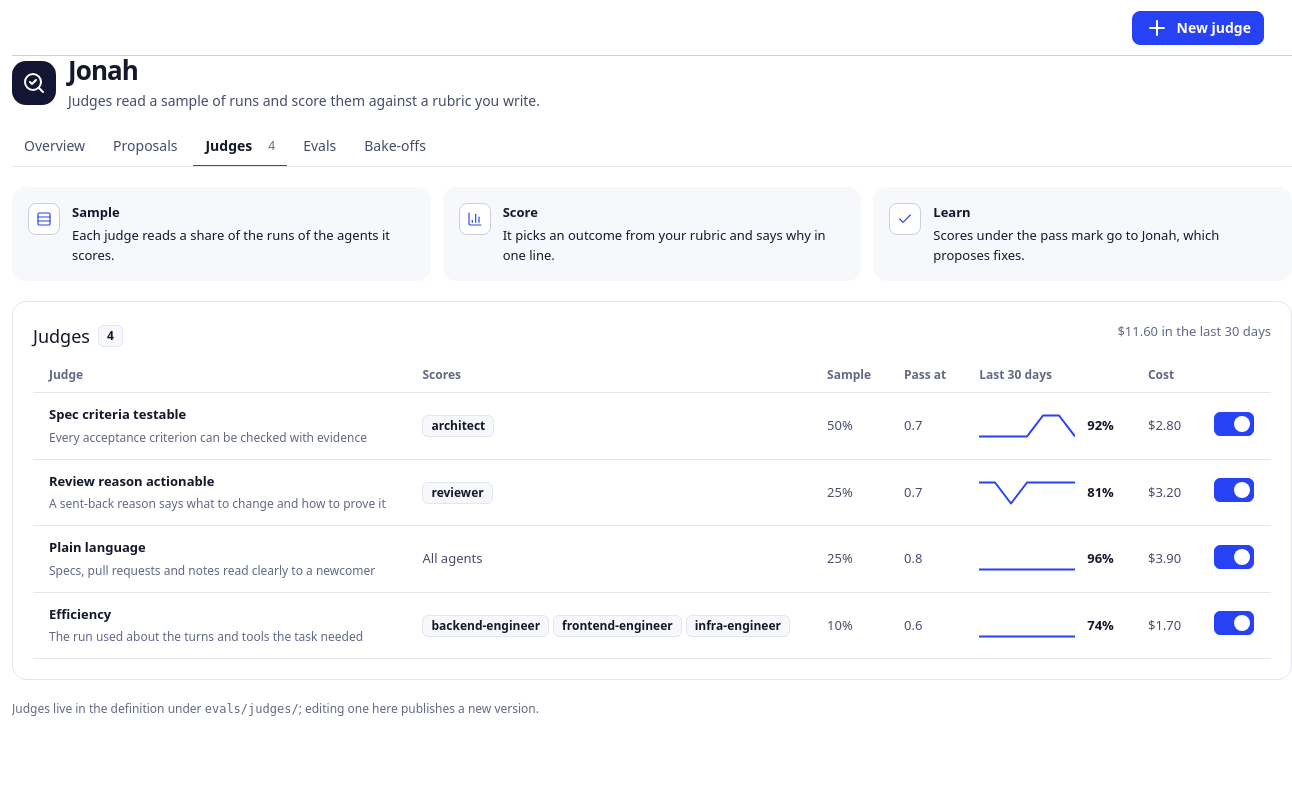
Test: the judges switch › does not show a refused flip as flipped, and says why
The image size is (1292, 800).
Click the switch named "Plain language on".
click(1234, 557)  # box [1214,545,1254,569]
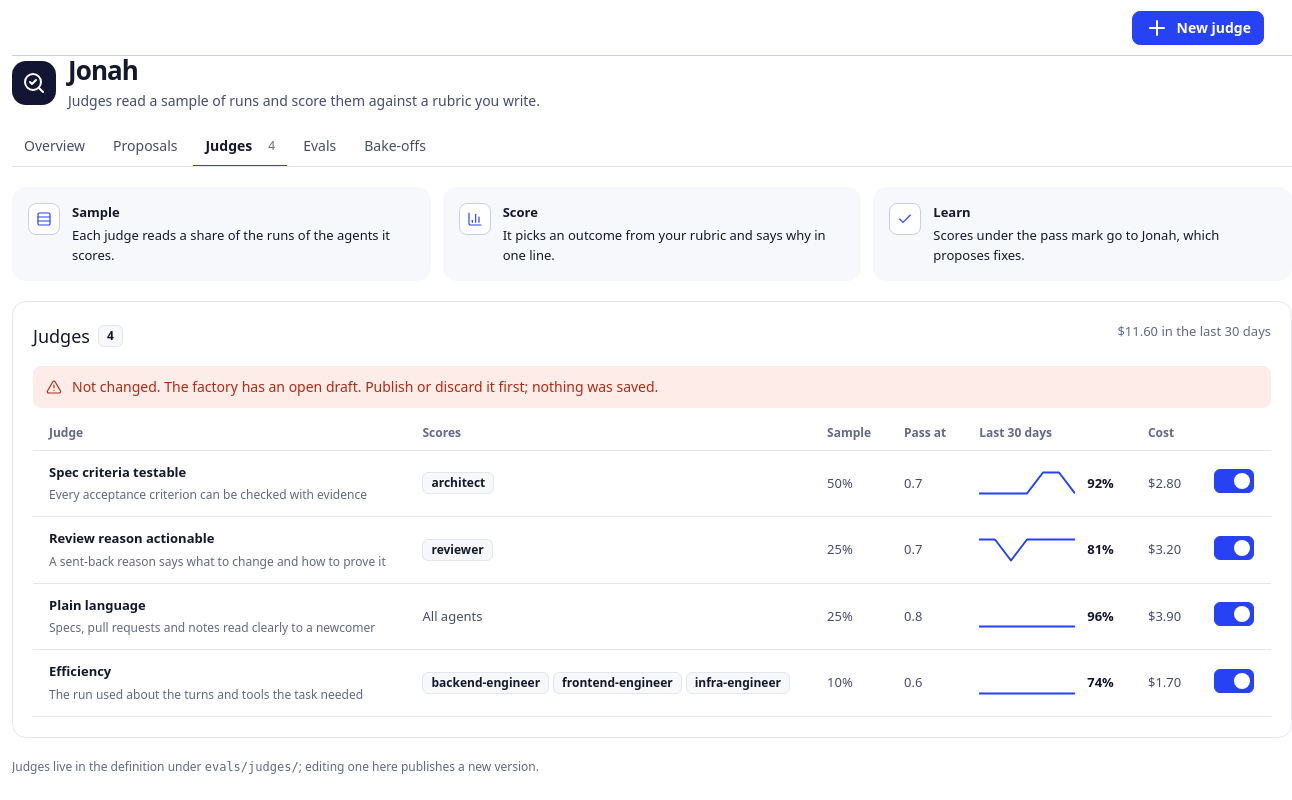
Result: the text "The factory has an open draft" is shown at [72,377,658,396]
